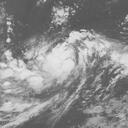cyclone: (35, 29, 95, 88)
